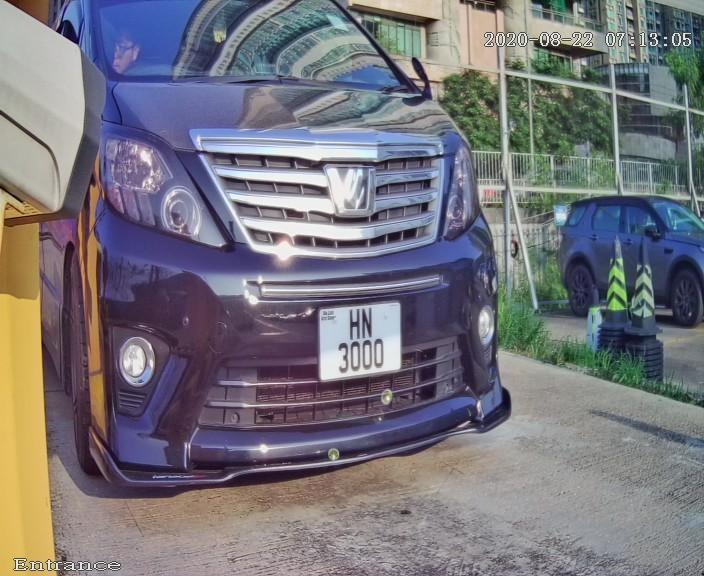Car: (19, 1, 541, 535)
License Plate: (309, 283, 412, 397)
